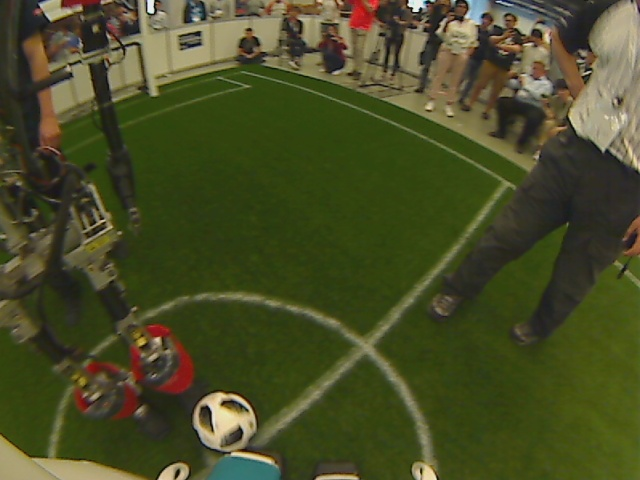ball: (191, 389, 262, 453)
